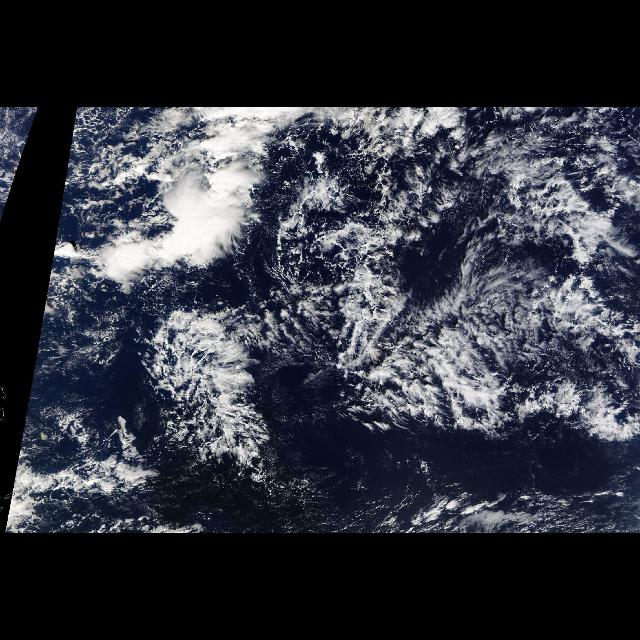Fish: (135, 134, 640, 522)
